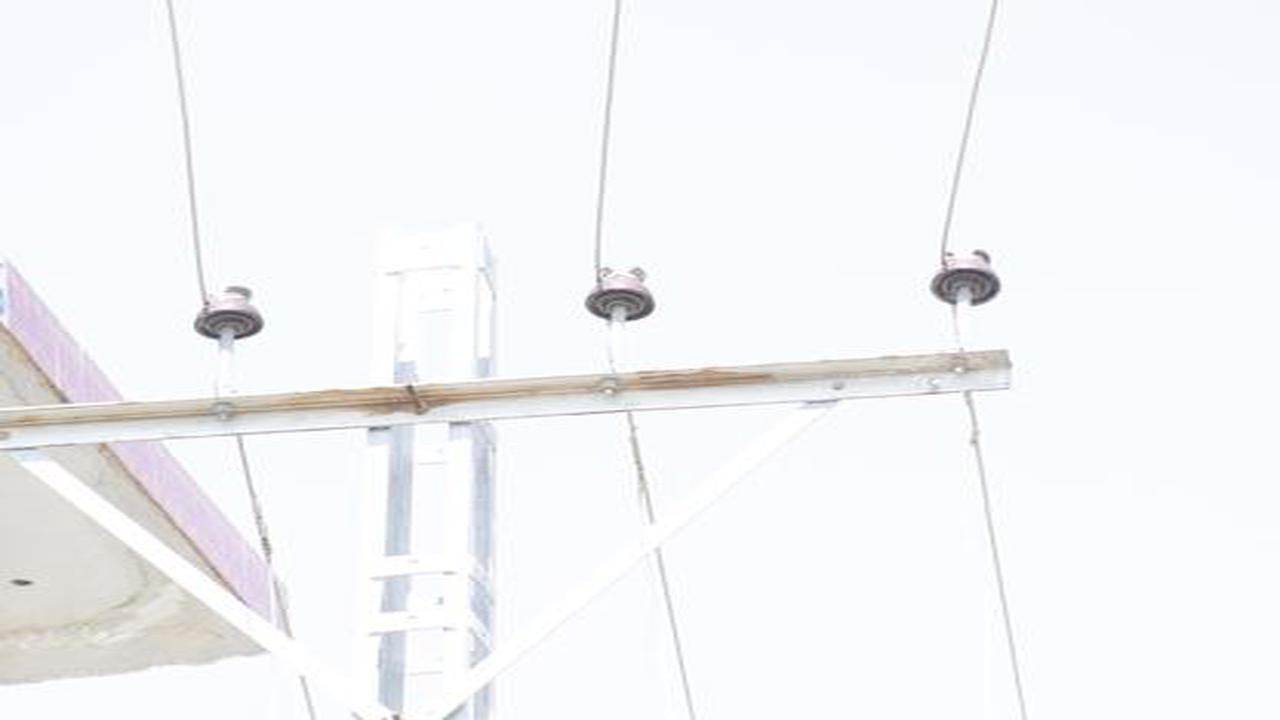insulator_pin: (927, 245, 1004, 312), (582, 262, 660, 327), (191, 282, 266, 343)
